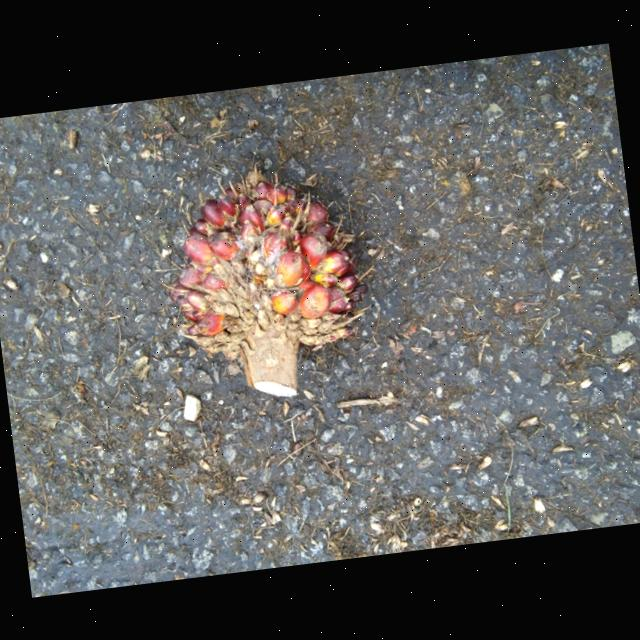Ripe: (166, 163, 366, 372)
